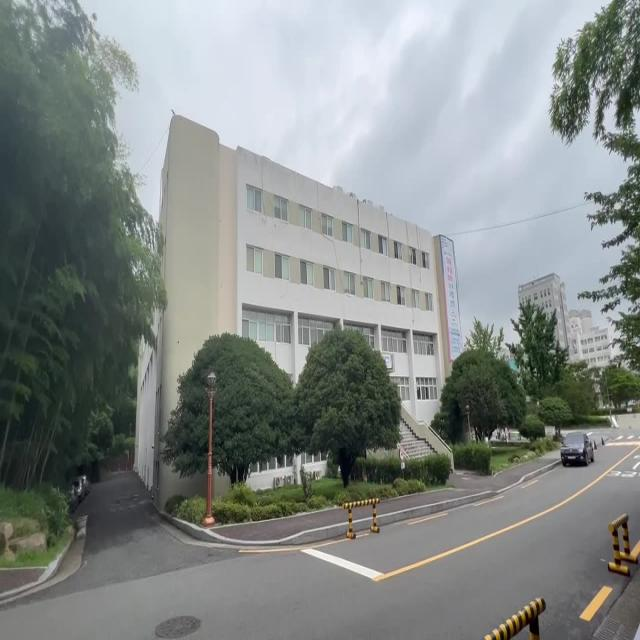building: (180, 127, 437, 337)
